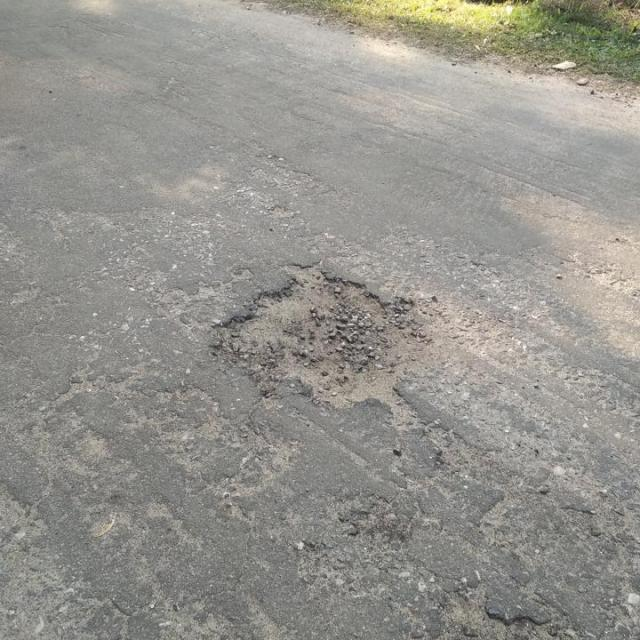pothole: (208, 258, 449, 412), (431, 584, 574, 639)
